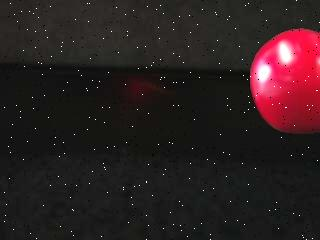Tomato: (248, 27, 320, 135)
